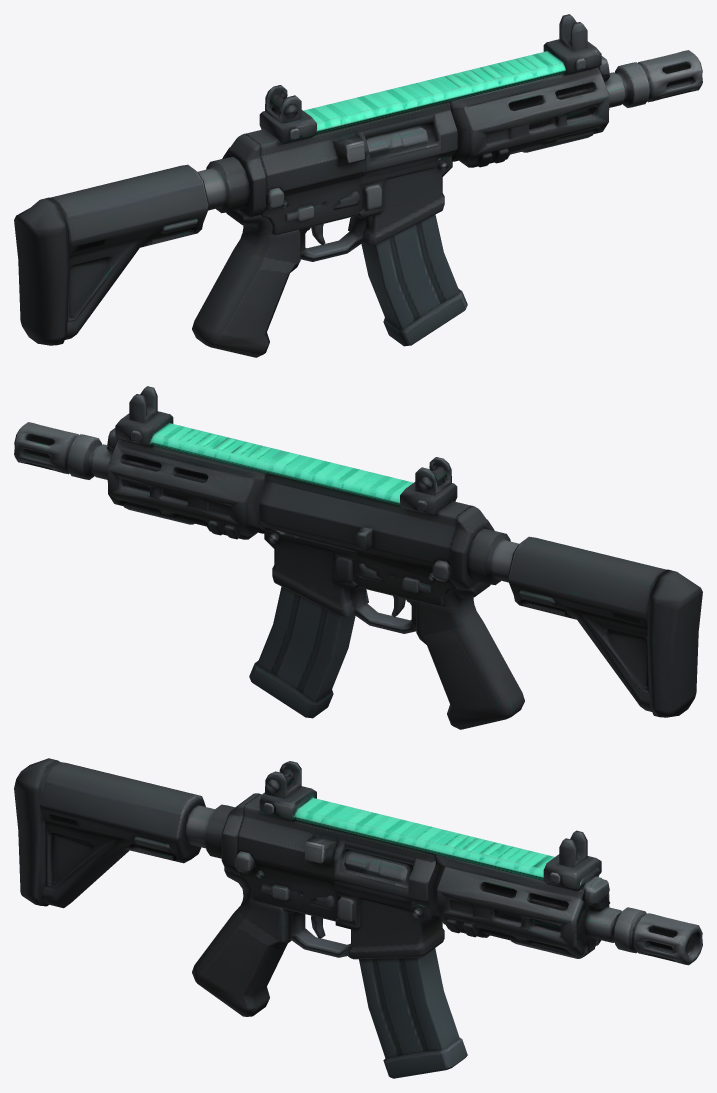
File: support-rifle.glb
The picture shows the model from 3 angles, top to bottom: view 1: azimuth 30°, elevation 25°; view 2: azimuth 150°, elevation 25°; view 3: azimuth 330°, elevation 25°; orthographic projection.
Parts seen in each view (by area): view 1: tripo_node_4d21e9ae-012f-4031-9c5d-ed50c383fe8d; view 2: tripo_node_4d21e9ae-012f-4031-9c5d-ed50c383fe8d; view 3: tripo_node_4d21e9ae-012f-4031-9c5d-ed50c383fe8d.
Boxes of the visible parts, box(x1,y1,x2,y2) form: tripo_node_4d21e9ae-012f-4031-9c5d-ed50c383fe8d: box(14, 14, 702, 357); tripo_node_4d21e9ae-012f-4031-9c5d-ed50c383fe8d: box(14, 386, 702, 729); tripo_node_4d21e9ae-012f-4031-9c5d-ed50c383fe8d: box(14, 758, 702, 1078).
Size of the model in its own units: 0.9995 by 0.3979 by 0.1157.
Materials: 1 (1 with a texture image).
